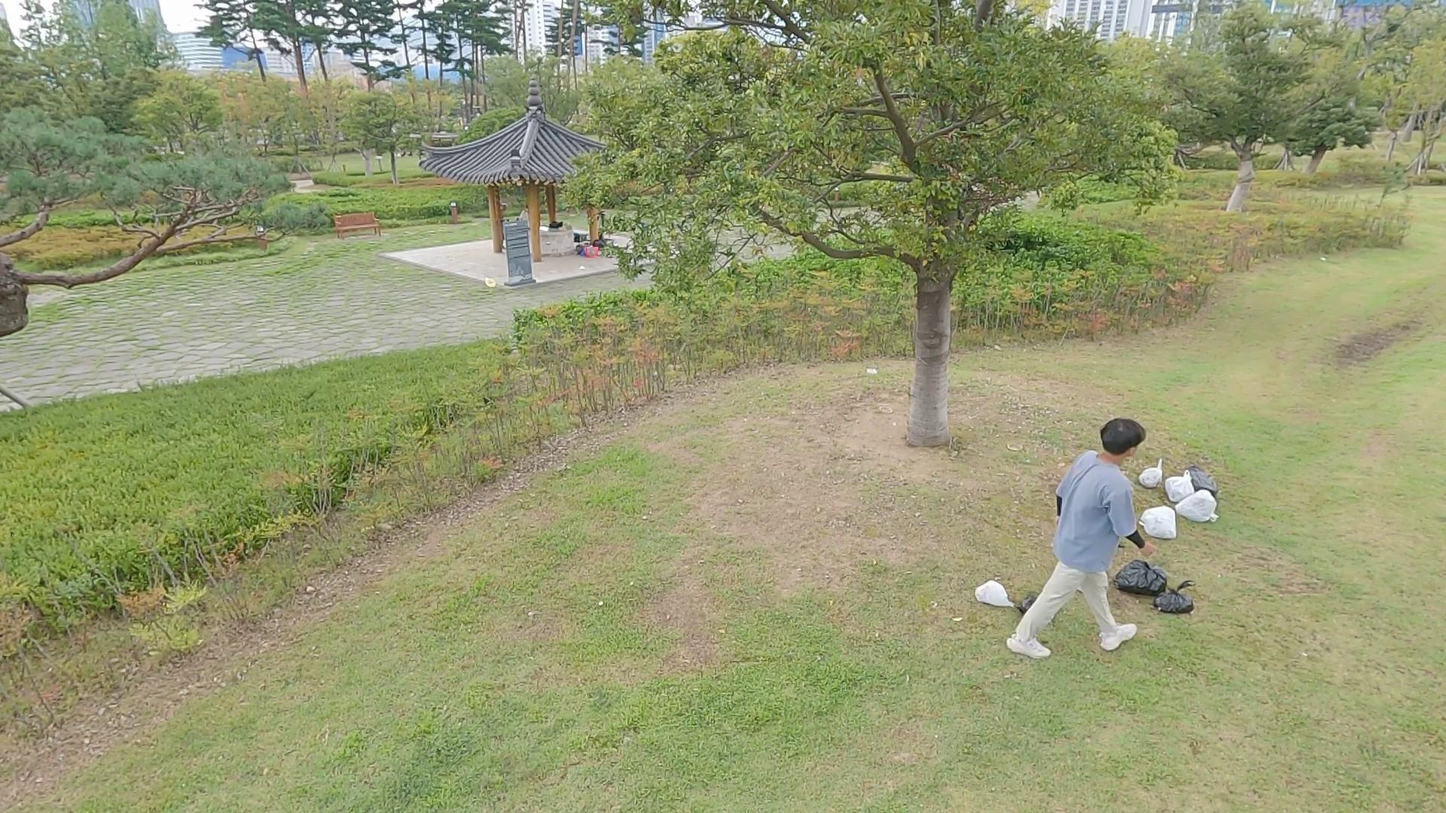person: (1006, 417, 1154, 662)
trash: (1110, 554, 1168, 598), (1148, 576, 1199, 613), (1172, 490, 1221, 525), (1136, 505, 1179, 540), (1018, 589, 1056, 627), (1182, 463, 1220, 501), (973, 578, 1014, 611), (1163, 471, 1197, 505), (1138, 456, 1165, 489), (866, 368, 879, 375)
